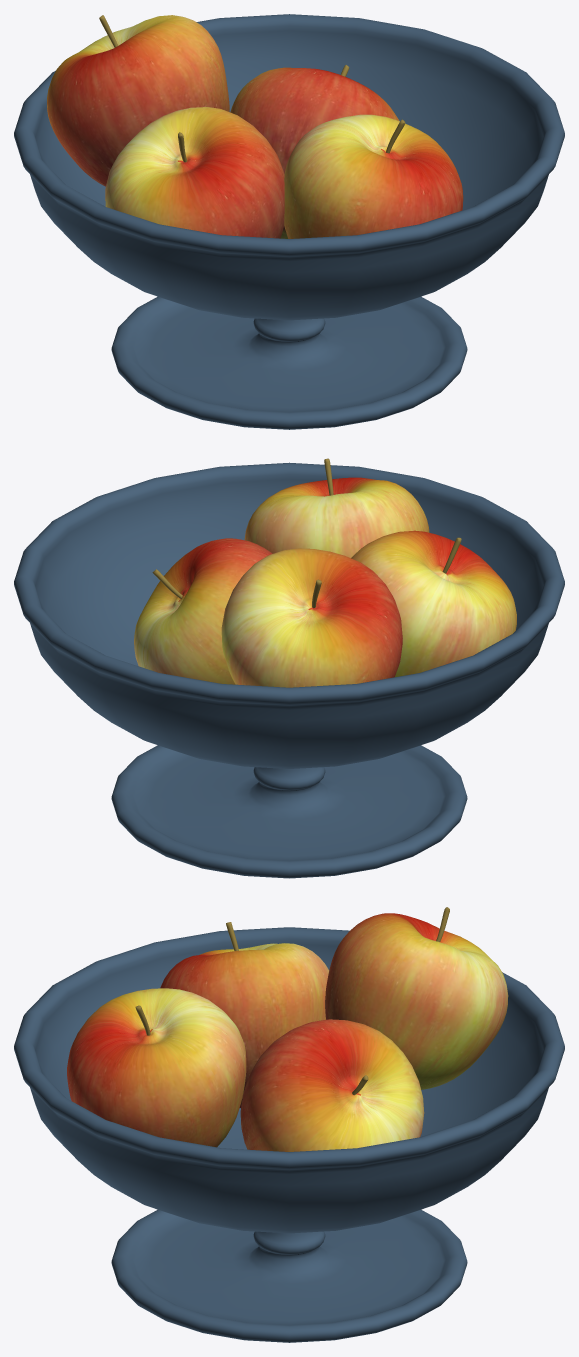
3 views of the same model, one above another, from view 1: azimuth 30°, elevation 25°; view 2: azimuth 150°, elevation 25°; view 3: azimuth 270°, elevation 25° (orthographic).
Parts seen in each view (by area): view 1: Object_2, Object_4, Object_3; view 2: Object_2, Object_4, Object_3; view 3: Object_2, Object_4, Object_3.
Boxes of the visible parts, x1,y1,x2,y2 form: Object_2: (14, 14, 564, 429); Object_4: (47, 15, 463, 238); Object_3: (99, 15, 405, 162); Object_2: (14, 462, 564, 878); Object_4: (134, 477, 516, 687); Object_3: (152, 458, 461, 608); Object_2: (14, 927, 564, 1342); Object_4: (67, 913, 508, 1151); Object_3: (135, 907, 449, 1095).
Bounding box in the file's own units: 25.73 × 16.02 × 25.73.
3 materials, 1 textured.
